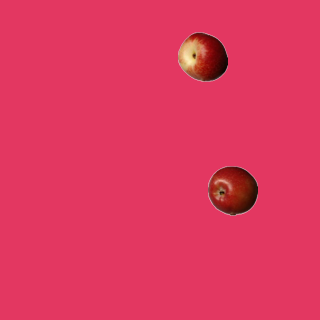Apple Braeburn: (207, 165, 257, 215)
Nectarine: (177, 31, 227, 81)
